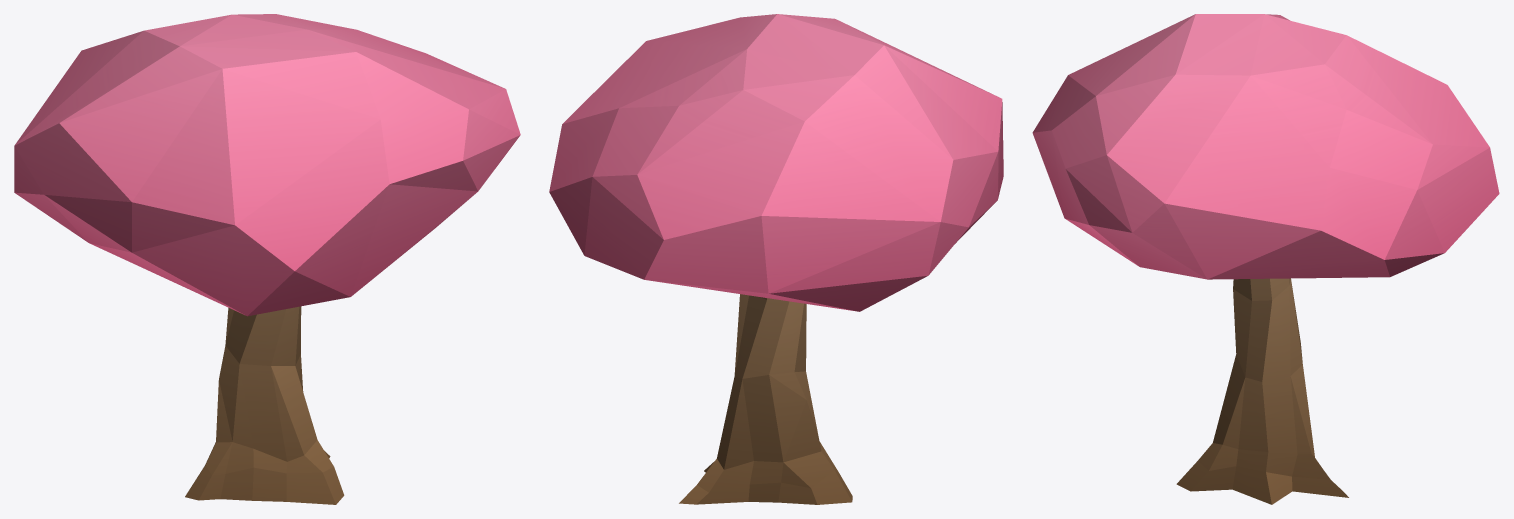
The model's file is Tree_Mammoth_Pink_01.fbx.
The picture shows the model from 3 angles, left to right: view 1: azimuth 30°, elevation 25°; view 2: azimuth 150°, elevation 25°; view 3: azimuth 270°, elevation 25°; orthographic projection. The views are drawn at different scales.
Parts seen in each view (by area): view 1: Tree_Mammoth_Pink; view 2: Tree_Mammoth_Pink; view 3: Tree_Mammoth_Pink.
Part boxes in pixels (<box>): Tree_Mammoth_Pink: <box>14,14,520,504</box>; Tree_Mammoth_Pink: <box>549,14,1003,504</box>; Tree_Mammoth_Pink: <box>1032,14,1499,504</box>.
Bounding box in the file's own units: 7.5 × 8 × 8.
